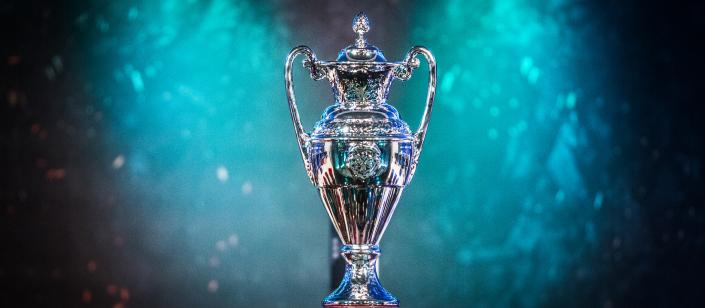trophy: (283, 8, 440, 308)
